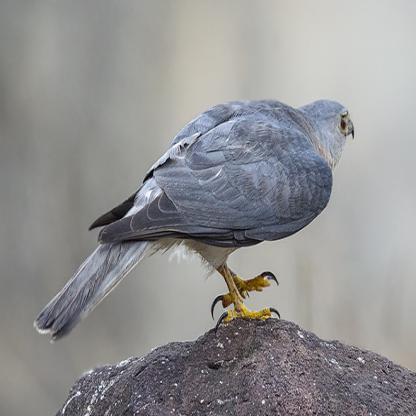Burung: (32, 98, 354, 342)
